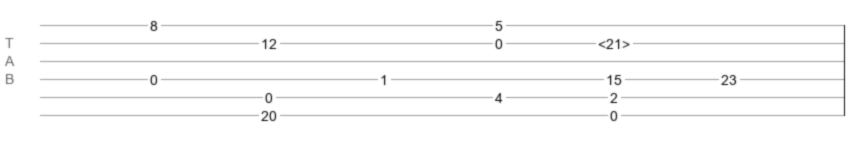0: (150, 72, 158, 82), (265, 90, 273, 100), (495, 36, 503, 46), (610, 108, 618, 118)
1: (380, 72, 388, 82)
12: (261, 36, 277, 46)
15: (606, 72, 622, 82)
2: (610, 90, 618, 100)
20: (261, 108, 277, 118)
23: (721, 72, 737, 82)
4: (495, 90, 503, 100)
5: (495, 18, 503, 28)
8: (150, 18, 158, 28)
harmonic: (598, 36, 630, 46)
